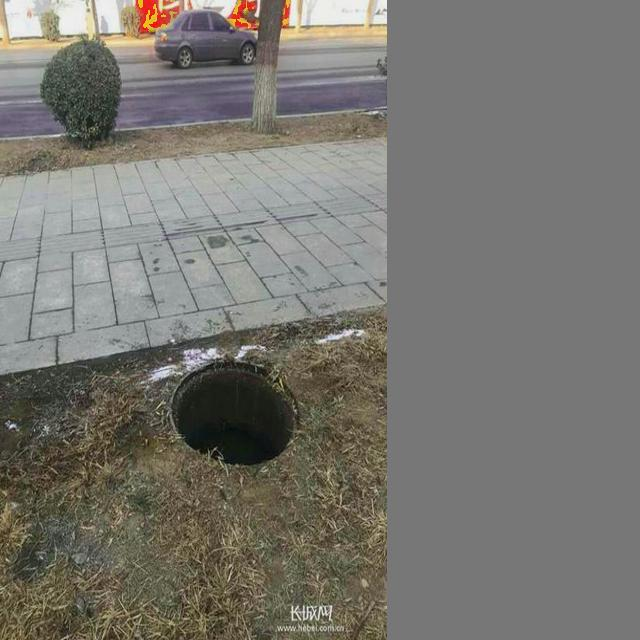lose: (146, 344, 312, 484)
